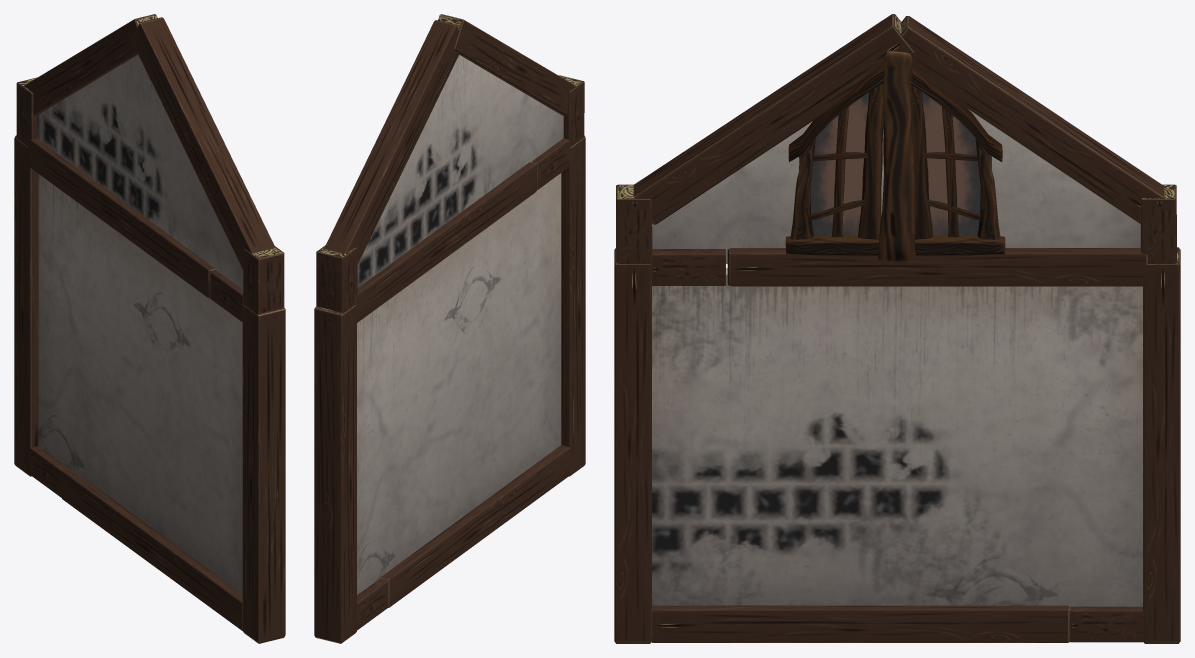
The model's file is Wall_Piece_R5.fbx.
The picture shows the model from 3 angles, left to right: view 1: azimuth 30°, elevation 25°; view 2: azimuth 150°, elevation 25°; view 3: azimuth 270°, elevation 25°; orthographic projection. The views are drawn at different scales.
Parts seen in each view (by area): view 1: Wall_20_Triangle.002; view 2: Wall_20_Triangle.002; view 3: Wall_20_Triangle.002.
Boxes of the visible parts, x1,y1,x2,y2 form: Wall_20_Triangle.002: [14, 14, 285, 643]; Wall_20_Triangle.002: [314, 14, 585, 643]; Wall_20_Triangle.002: [614, 14, 1180, 643].
Size of the model in its own units: 37.25 by 562 by 468.
